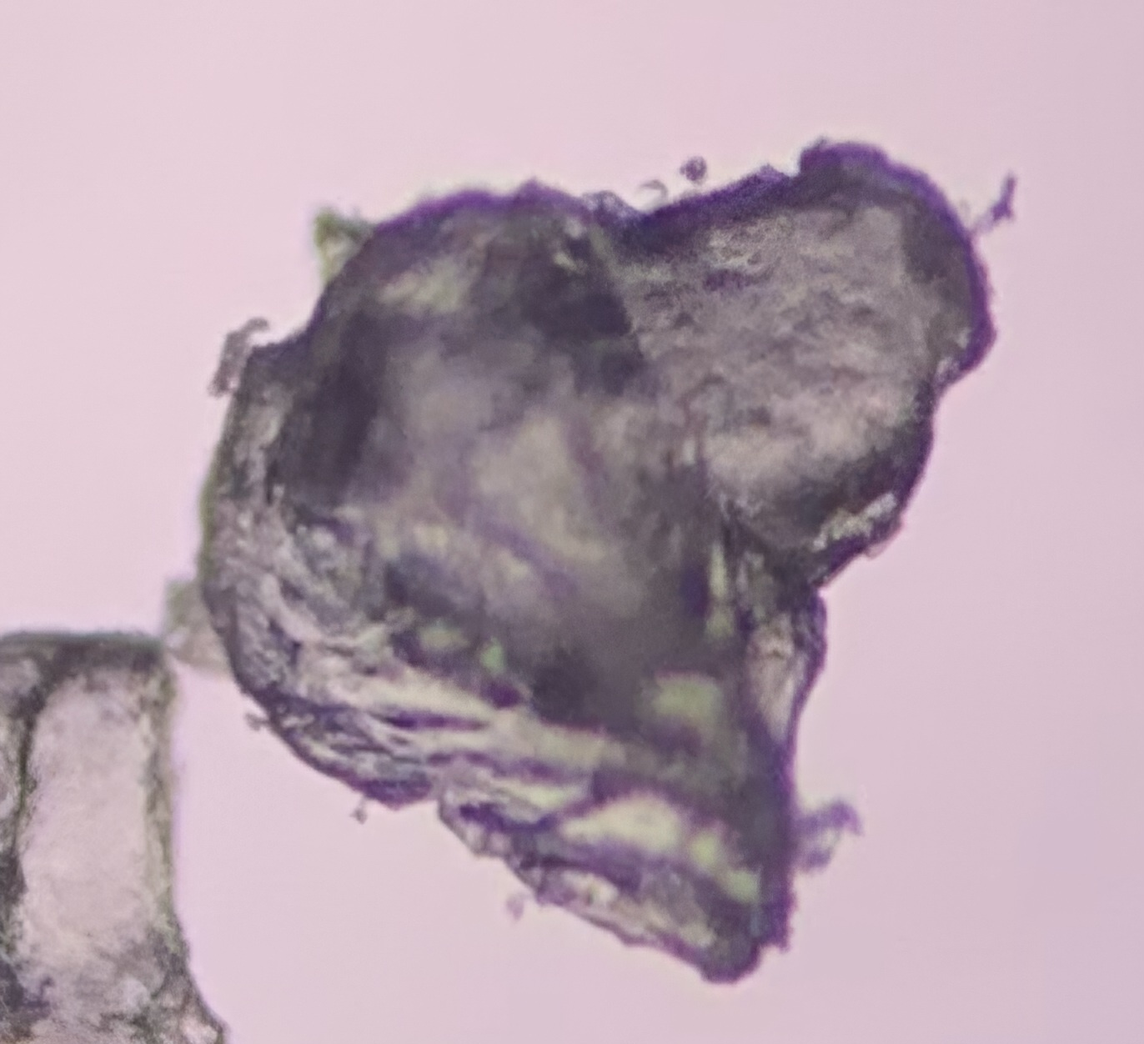microplastic: (162, 131, 1019, 991), (4, 625, 232, 1043)
